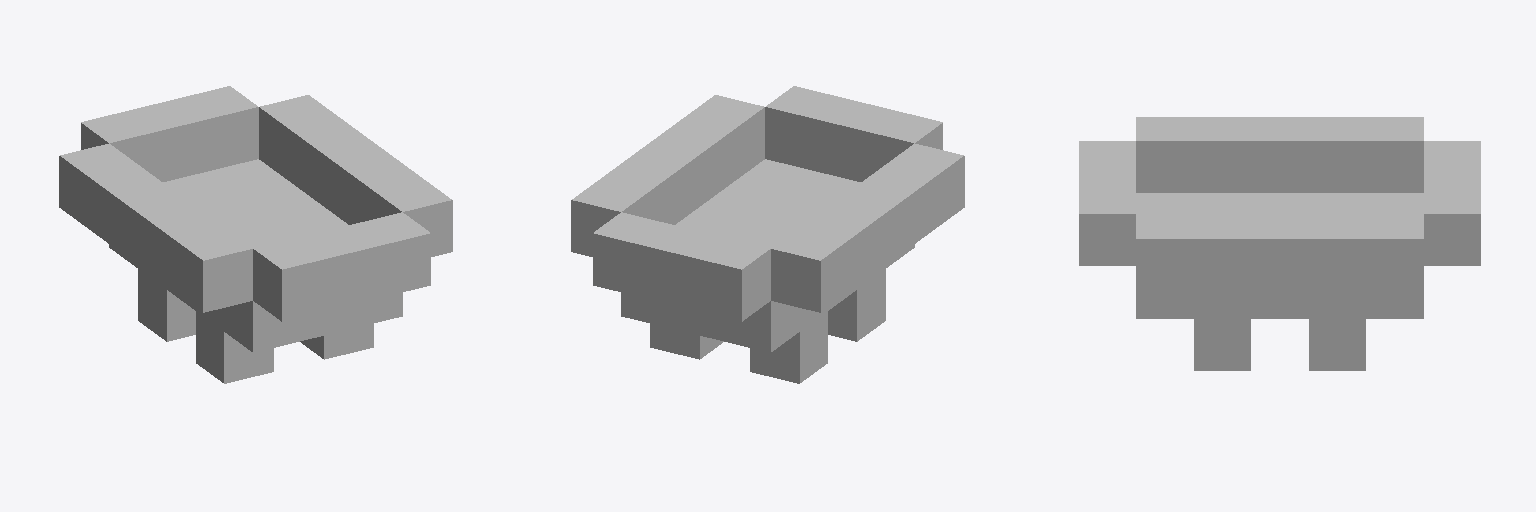
The model's file is Cart.obj.
The picture shows the model from 3 angles: view 1: azimuth 30°, elevation 25°; view 2: azimuth 150°, elevation 25°; view 3: azimuth 270°, elevation 25°; orthographic projection.
Visible parts, largest first — view 1: object 1; view 2: object 1; view 3: object 1.
Boxes of the visible parts, box(x1,y1,x2,y2) form: object 1: box(59, 86, 452, 383); object 1: box(571, 86, 964, 383); object 1: box(1079, 117, 1480, 370).
Bounding box in the file's own units: 0.5 × 0.3 × 0.7.